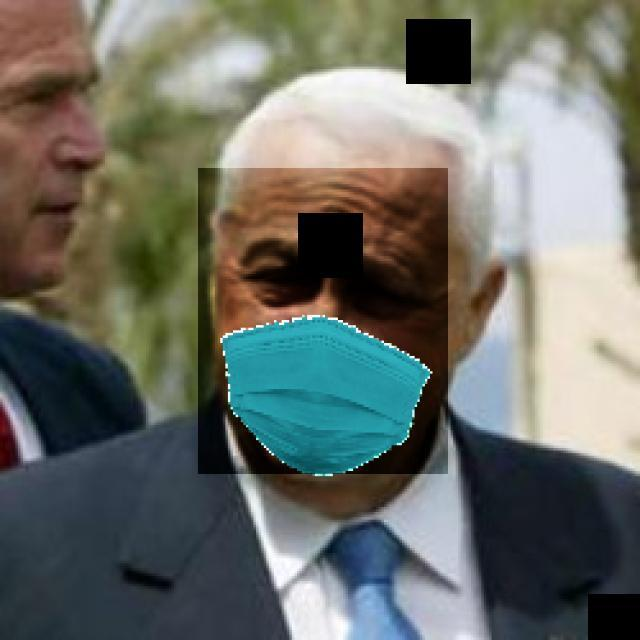surgical: (198, 168, 448, 474)
